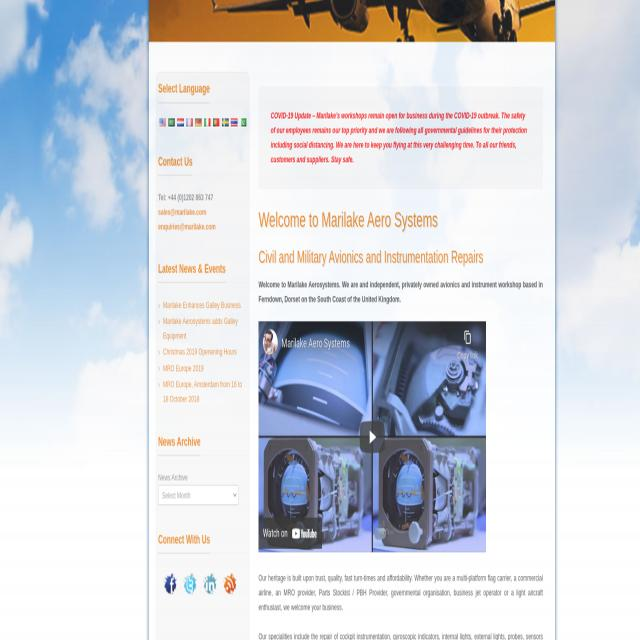button: (258, 320, 486, 552), (454, 328, 482, 363), (360, 422, 384, 455), (262, 330, 278, 355), (163, 572, 177, 596), (183, 572, 197, 596), (203, 572, 217, 596), (223, 572, 237, 596), (158, 118, 168, 128), (167, 118, 177, 128), (202, 118, 212, 128), (220, 118, 230, 128), (238, 118, 248, 128), (176, 118, 185, 128), (185, 118, 194, 128), (212, 118, 221, 128), (194, 118, 202, 128), (230, 118, 238, 128)
field: (158, 485, 239, 505)
